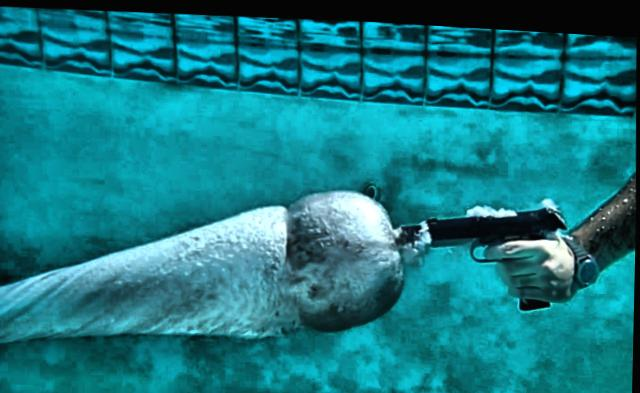pistol: (397, 190, 569, 309)
